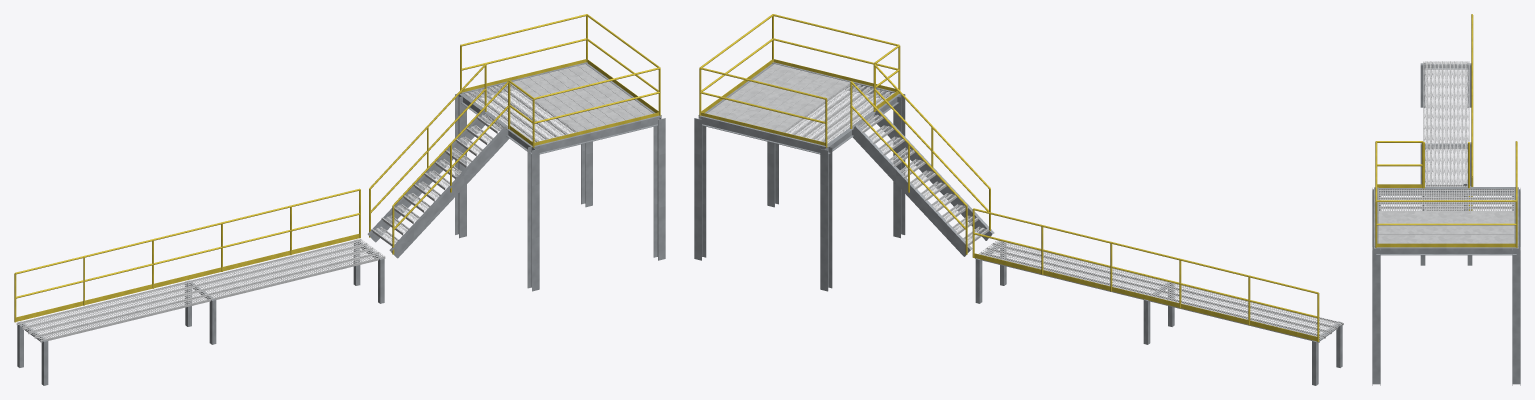
The model's file is anti-slip-grating.glb.
3 renders of one model, left to right at view 1: azimuth 30°, elevation 25°; view 2: azimuth 150°, elevation 25°; view 3: azimuth 270°, elevation 25°, orthographic. The views are drawn at different scales.
Visible parts, largest first — view 1: SupportFrame, Handrails, Grip-StrutPlanks, MezzanineDeck, Grip-StrutStairTreads; view 2: SupportFrame, Handrails, MezzanineDeck, Grip-StrutPlanks, Grip-StrutStairTreads; view 3: MezzanineDeck, SupportFrame, Grip-StrutPlanks, Handrails, Grip-StrutStairTreads.
Part boxes in pixels (bbox=[...]): SupportFrame: bbox=[17, 62, 665, 385]; Handrails: bbox=[14, 14, 660, 322]; Grip-StrutPlanks: bbox=[16, 239, 385, 342]; MezzanineDeck: bbox=[465, 64, 652, 142]; Grip-StrutStairTreads: bbox=[371, 114, 503, 246]; SupportFrame: bbox=[694, 62, 1342, 385]; Handrails: bbox=[699, 14, 1319, 341]; MezzanineDeck: bbox=[707, 64, 893, 143]; Grip-StrutPlanks: bbox=[974, 240, 1343, 342]; Grip-StrutStairTreads: bbox=[858, 114, 988, 245]; MezzanineDeck: bbox=[1378, 189, 1514, 243]; SupportFrame: bbox=[1372, 63, 1520, 385]; Grip-StrutPlanks: bbox=[1423, 61, 1469, 210]; Handrails: bbox=[1375, 14, 1517, 247]; Grip-StrutStairTreads: bbox=[1426, 184, 1466, 210].
Size of the model in its own units: 14.26 by 4.34 by 3.18.
Materials: 3 (3 with a texture image).
